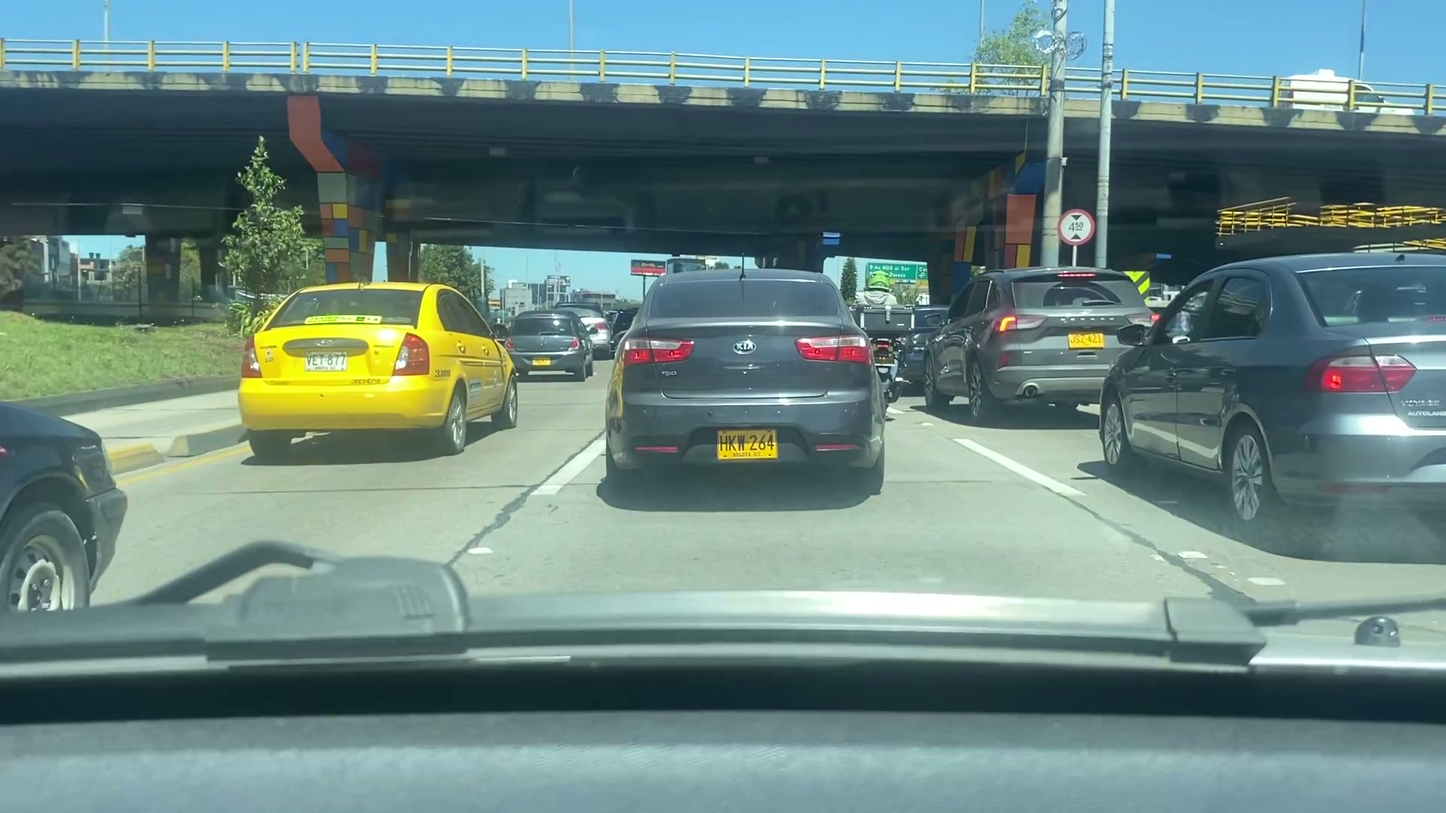car: (1100, 252, 1446, 529), (606, 267, 888, 498), (239, 284, 523, 456), (921, 266, 1162, 424), (1, 397, 130, 614), (504, 309, 595, 379), (549, 301, 611, 354)
